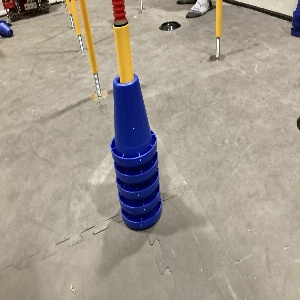Blue_5: (108, 70, 163, 235)
